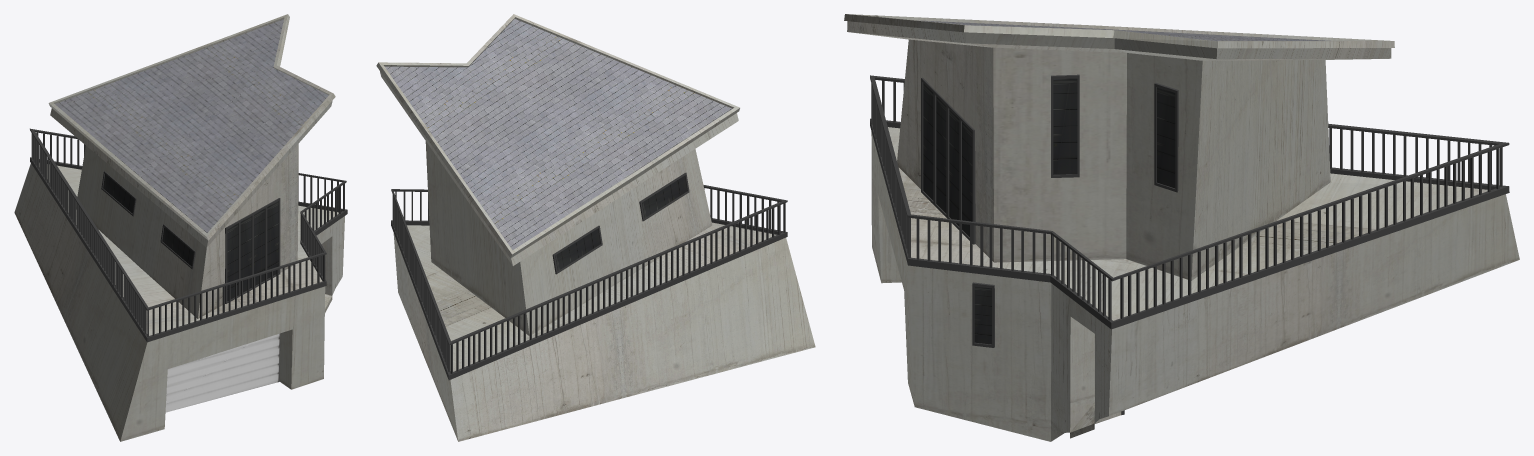
File: house10b.fbx
3 renders of one model, left to right at view 1: azimuth 30°, elevation 25°; view 2: azimuth 150°, elevation 25°; view 3: azimuth 270°, elevation 25°, orthographic. The views are drawn at different scales.
Parts seen in each view (by area): view 1: RES_H10b_4609.Shape; view 2: RES_H10b_4609.Shape; view 3: RES_H10b_4609.Shape.
Part boxes in pixels (x1=…): RES_H10b_4609.Shape: x1=14, y1=14, x2=347, y2=441; RES_H10b_4609.Shape: x1=376, y1=14, x2=815, y2=441; RES_H10b_4609.Shape: x1=844, y1=14, x2=1519, y2=441.
Size of the model in its own units: 1037 by 928 by 1315.
Materials: 5 (4 with a texture image).
